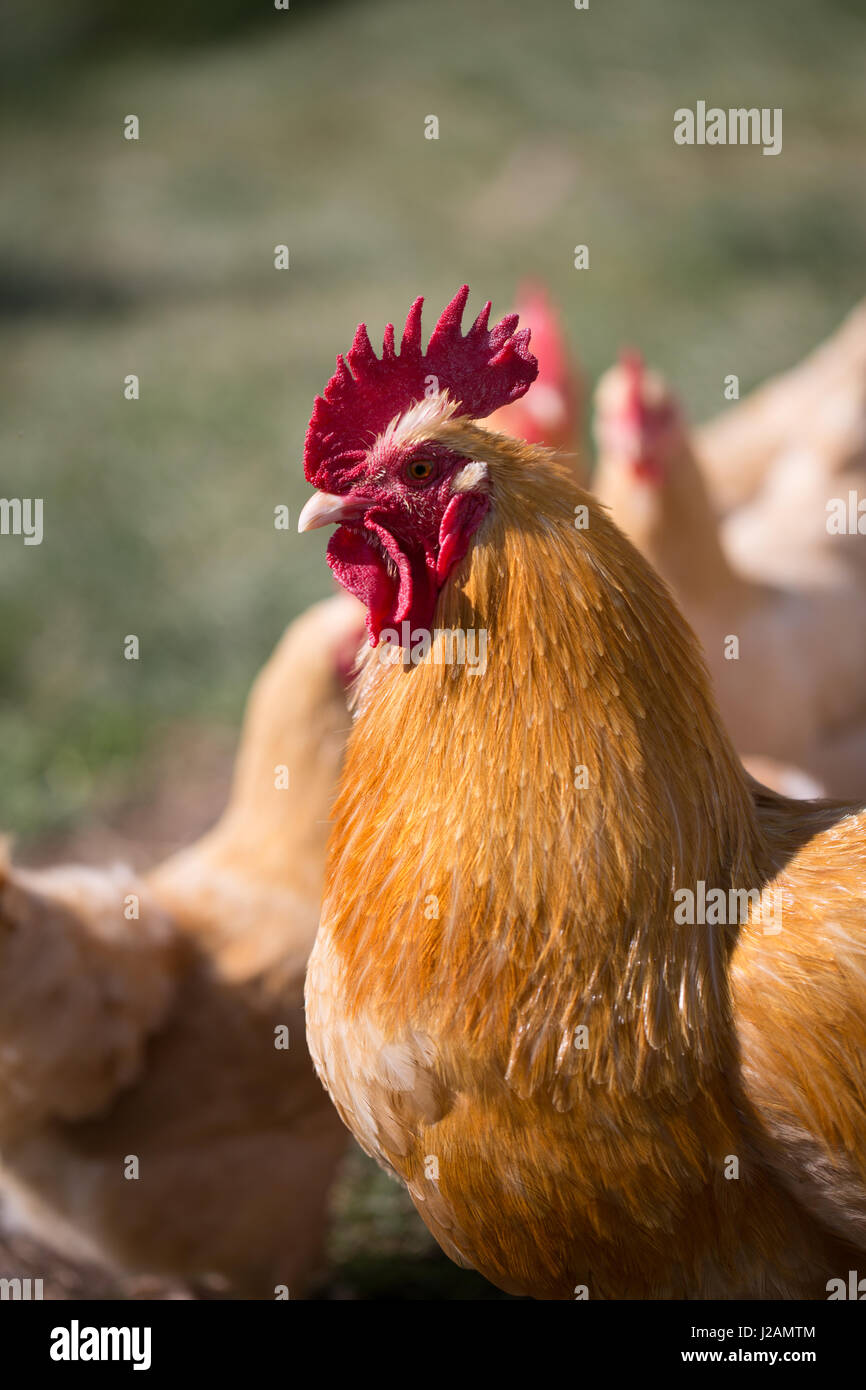buff: (243, 310, 838, 1212)
